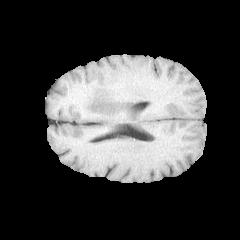glioma: (73, 87, 124, 118)
